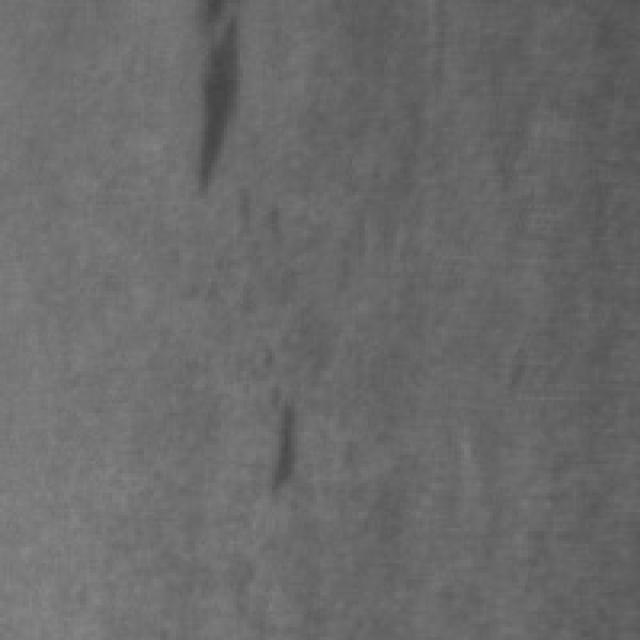inclusion: (173, 0, 243, 195), (250, 378, 314, 502)
